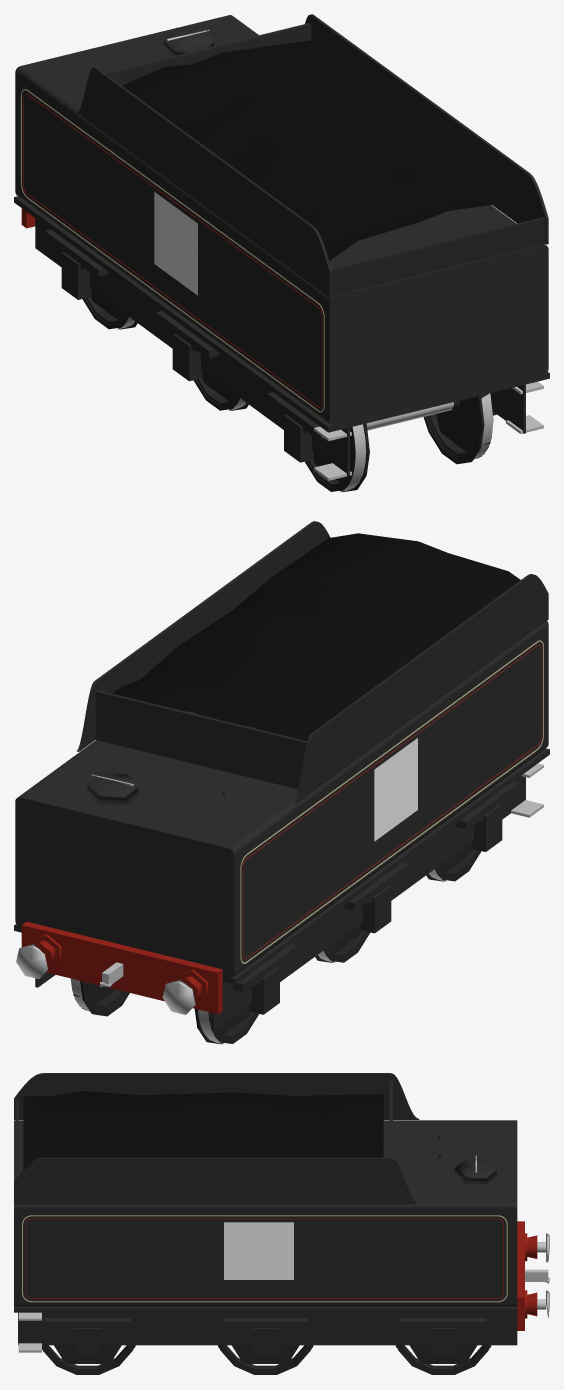
Rendered from tender_lod2.glb.
The picture shows the model from 3 angles, top to bottom: view 1: azimuth 30°, elevation 25°; view 2: azimuth 150°, elevation 25°; view 3: azimuth 270°, elevation 25°; orthographic projection. The views are drawn at different scales.
Parts seen in each view (by area): view 1: tender_static_paint_black, tender_static_coal, tender_static_smokebox, ws_t0_wheel, tender_static_decal_emblem, ws_t0_steel, tender_static_lining, tender_static_lining_red, tender_static_steel, ws_t2_wheel, ws_t1_wheel; view 2: tender_static_paint_black, tender_static_coal, tender_static_paint_red, tender_static_decal_emblem, tender_static_steel, ws_t2_wheel, tender_static_lining, tender_static_lining_red, ws_t1_wheel, ws_t0_wheel; view 3: tender_static_paint_black, tender_static_coal, tender_static_decal_emblem_l, tender_static_lining, ws_t2_wheel, ws_t1_wheel, ws_t0_wheel, tender_static_lining_red, tender_static_paint_red, tender_static_steel.
Part boxes in pixels (bbox=[...]): tender_static_paint_black: bbox=[14, 14, 549, 476]; tender_static_coal: bbox=[122, 40, 537, 260]; tender_static_smokebox: bbox=[331, 217, 545, 295]; ws_t0_wheel: bbox=[305, 393, 493, 492]; tender_static_decal_emblem: bbox=[154, 192, 197, 295]; ws_t0_steel: bbox=[338, 393, 493, 492]; tender_static_lining: bbox=[20, 89, 324, 412]; tender_static_lining_red: bbox=[23, 93, 322, 407]; tender_static_steel: bbox=[16, 29, 543, 480]; ws_t2_wheel: bbox=[82, 290, 137, 329]; ws_t1_wheel: bbox=[193, 371, 248, 410]; tender_static_paint_black: bbox=[14, 521, 549, 1030]; tender_static_coal: bbox=[113, 533, 520, 740]; tender_static_paint_red: bbox=[21, 921, 222, 1014]; tender_static_decal_emblem: bbox=[374, 738, 417, 841]; tender_static_steel: bbox=[16, 763, 543, 1014]; ws_t2_wheel: bbox=[73, 980, 258, 1044]; tender_static_lining: bbox=[240, 640, 543, 963]; tender_static_lining_red: bbox=[242, 645, 541, 959]; ws_t1_wheel: bbox=[315, 923, 370, 962]; ws_t0_wheel: bbox=[426, 842, 481, 881]; tender_static_paint_black: bbox=[14, 1073, 517, 1356]; tender_static_coal: bbox=[23, 1091, 383, 1170]; tender_static_decal_emblem_l: bbox=[224, 1222, 293, 1279]; tender_static_lining: bbox=[22, 1215, 507, 1302]; ws_t2_wheel: bbox=[395, 1345, 491, 1374]; ws_t1_wheel: bbox=[218, 1345, 313, 1374]; ws_t0_wheel: bbox=[42, 1345, 135, 1374]; tender_static_lining_red: bbox=[25, 1218, 503, 1298]; tender_static_paint_red: bbox=[517, 1221, 537, 1330]; tender_static_steel: bbox=[18, 1155, 549, 1352].
Size of the model in its own units: 2.63 by 3.32 by 6.89.
